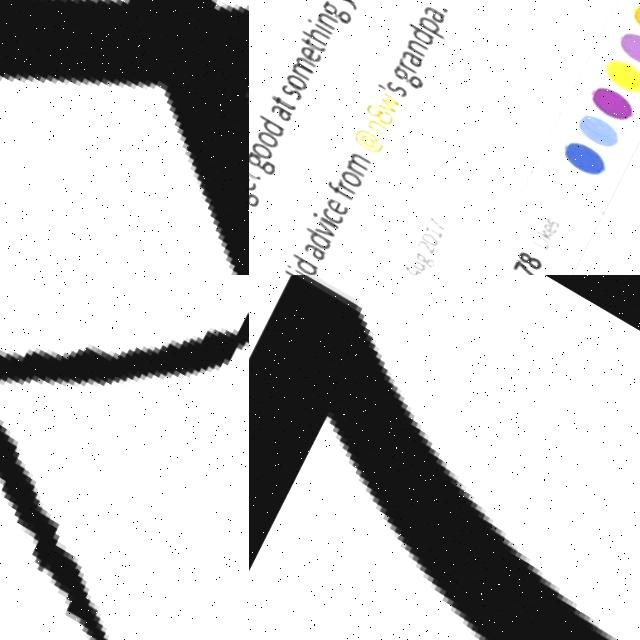0: (407, 229, 430, 246)
1: (413, 221, 434, 239)
2: (404, 237, 426, 255)
7: (249, 275, 640, 640), (499, 256, 527, 275), (415, 212, 438, 231)
8: (354, 99, 388, 125), (505, 247, 534, 270)
X: (0, 275, 249, 640), (0, 0, 249, 275)
